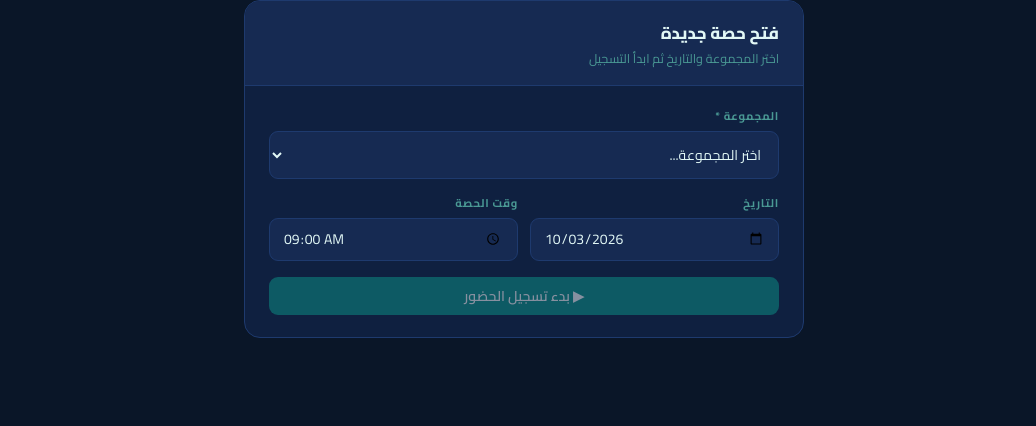
Test: SessionMarking — eligibility-based roster (Group Closure) › Case C: fetches the roster with the selected group + date, and renders only the returned eligible students
Step 1. Select "Group A (1 طالب)" in the dropdown → [524, 155], box x1=269 y1=131 x2=779 y2=179
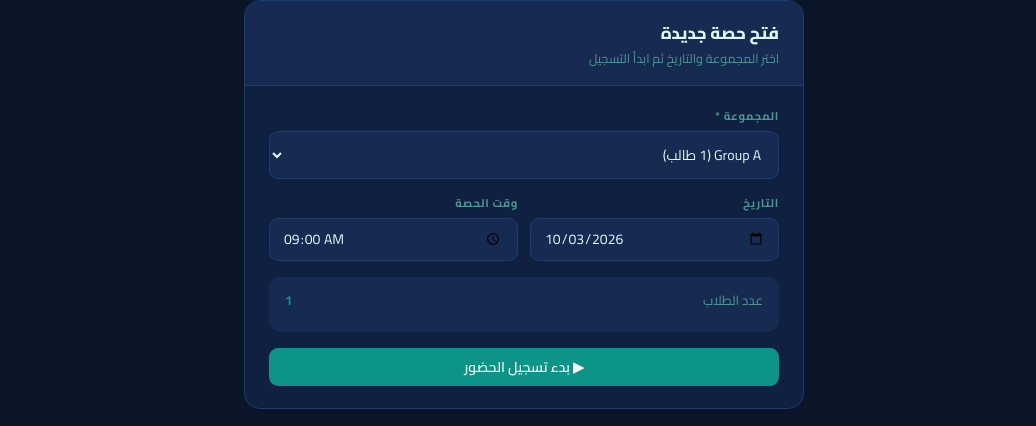
Step 2. Click the button "▶ بدء تسجيل الحضور" → [524, 367], box x1=269 y1=348 x2=779 y2=386
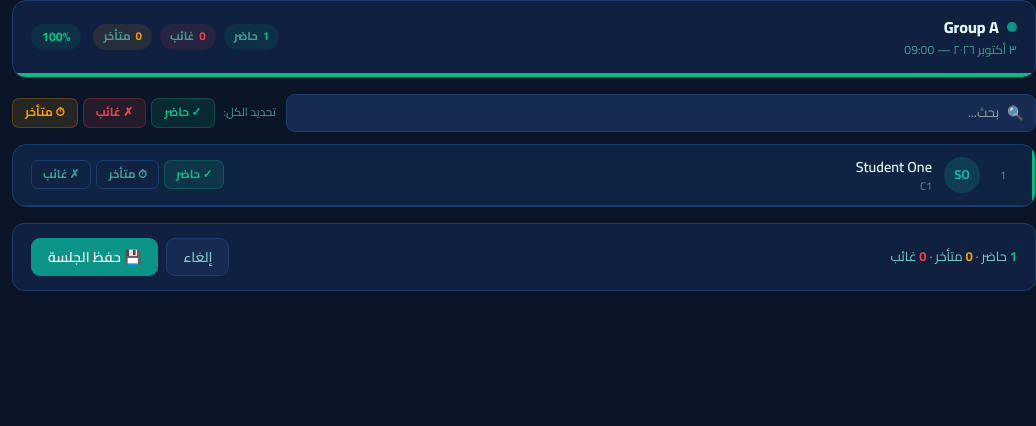
expect the text "Student One" is shown: met, box x1=856 y1=153 x2=932 y2=180
